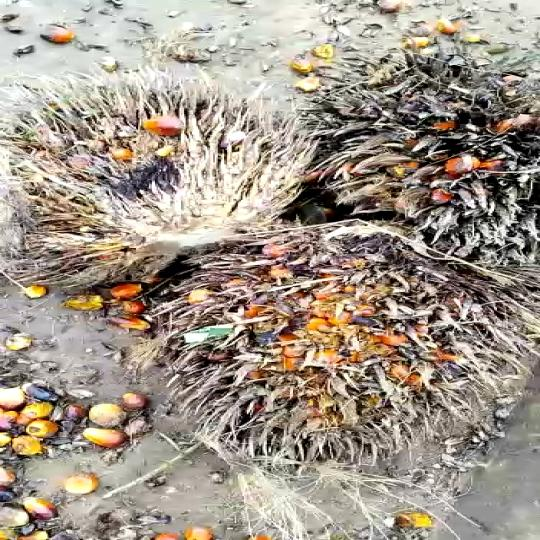terlalu masak: (152, 227, 532, 450), (0, 94, 328, 276)
